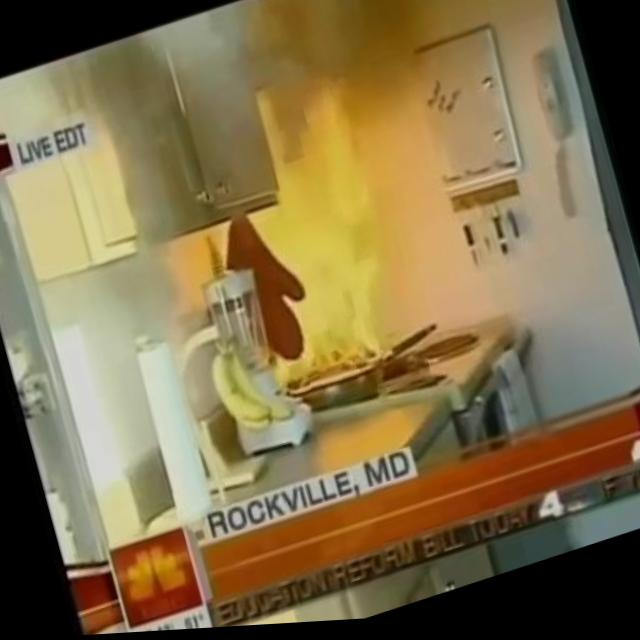fire: (226, 148, 410, 414)
